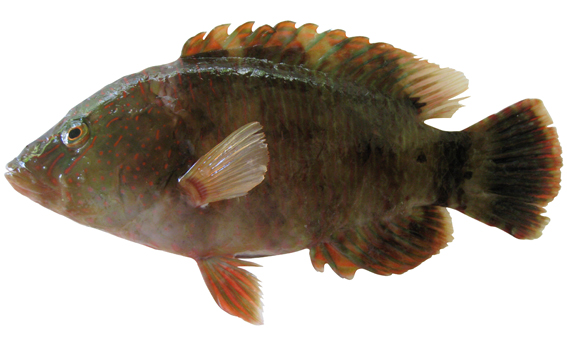fish: (5, 20, 564, 325)
